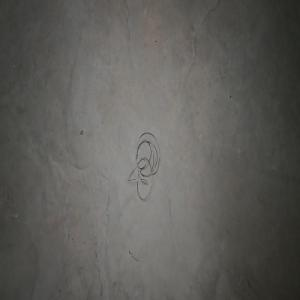Wire: (127, 132, 159, 199)
